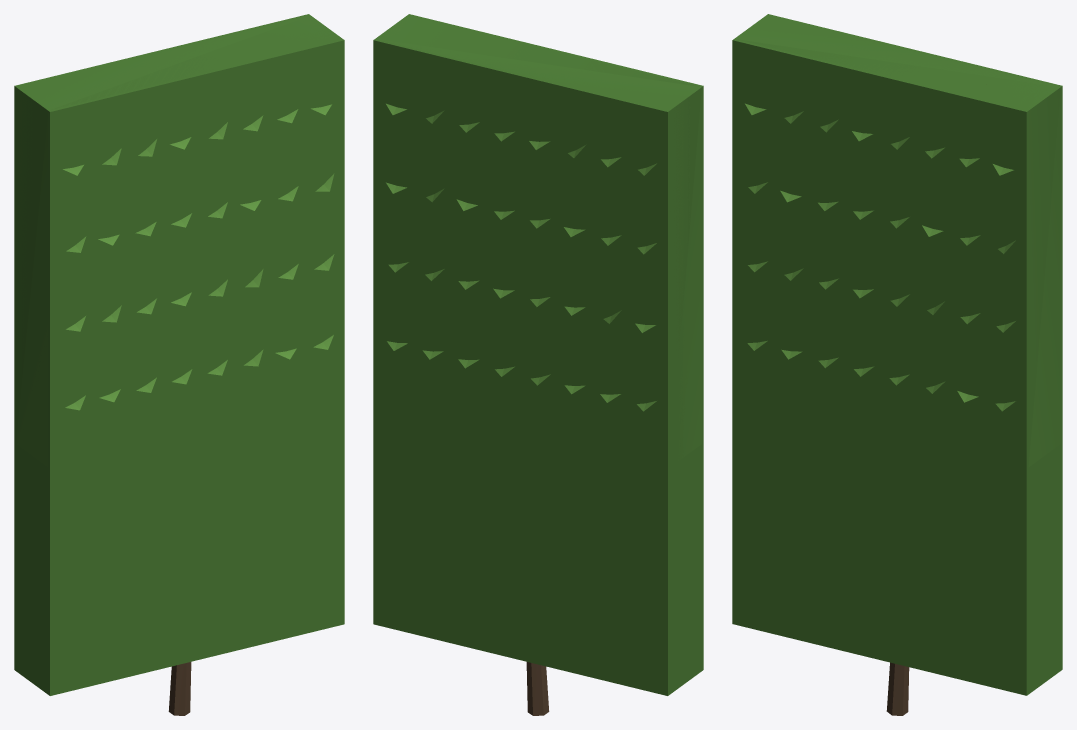
Rendered from grape_table.glb.
3 views of the same model, side by side, from view 1: azimuth 30°, elevation 25°; view 2: azimuth 150°, elevation 25°; view 3: azimuth 330°, elevation 25° (orthographic).
Parts seen in each view (by area): view 1: leaves (×3), trunk; view 2: leaves (×3), trunk; view 3: leaves (×3), trunk.
Part boxes in pixels (left/top/right/bottom): leaves (×3): left=14, top=14, right=344, bottom=695; trunk: left=168, top=662, right=191, bottom=715; leaves (×3): left=373, top=14, right=703, bottom=695; trunk: left=526, top=662, right=549, bottom=715; leaves (×3): left=732, top=14, right=1062, bottom=695; trunk: left=886, top=662, right=909, bottom=715.
Bounding box in the file's own units: 0.4747 × 1 × 0.123.
